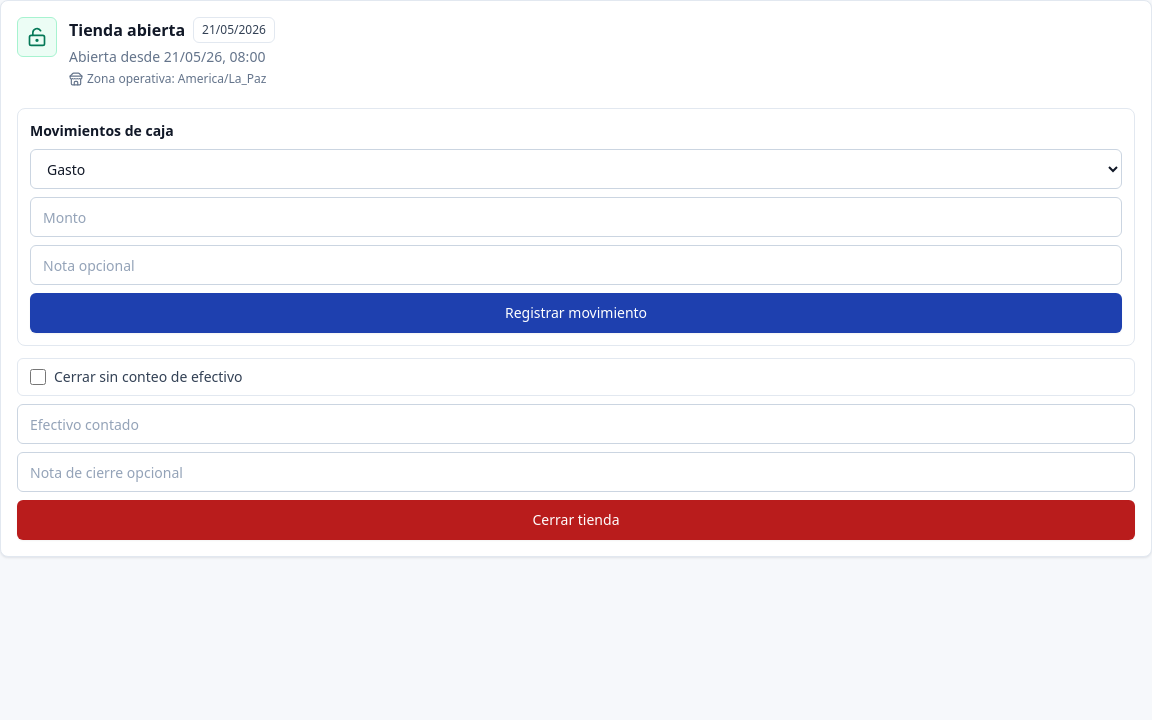
Test: StoreDayStatusPanel › filters cash movement amount input to numbers and two decimals
The width and height of the screenshot is (1152, 720).
Type "abc12.345x.67" into the field named "Monto de movimiento". click: (576,217)
box: top-left (30, 197), bottom-right (1122, 237)
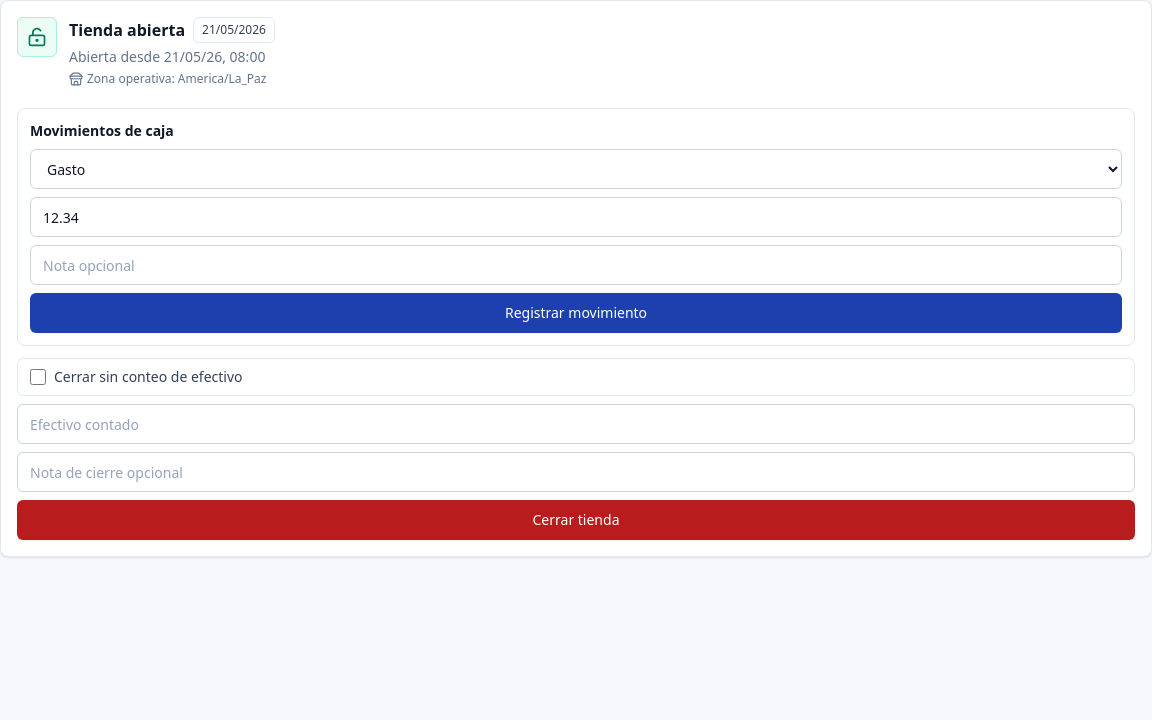
expect the field named "Monto de movimiento" holds "12.34": met, box top-left (30, 197), bottom-right (1122, 237)
